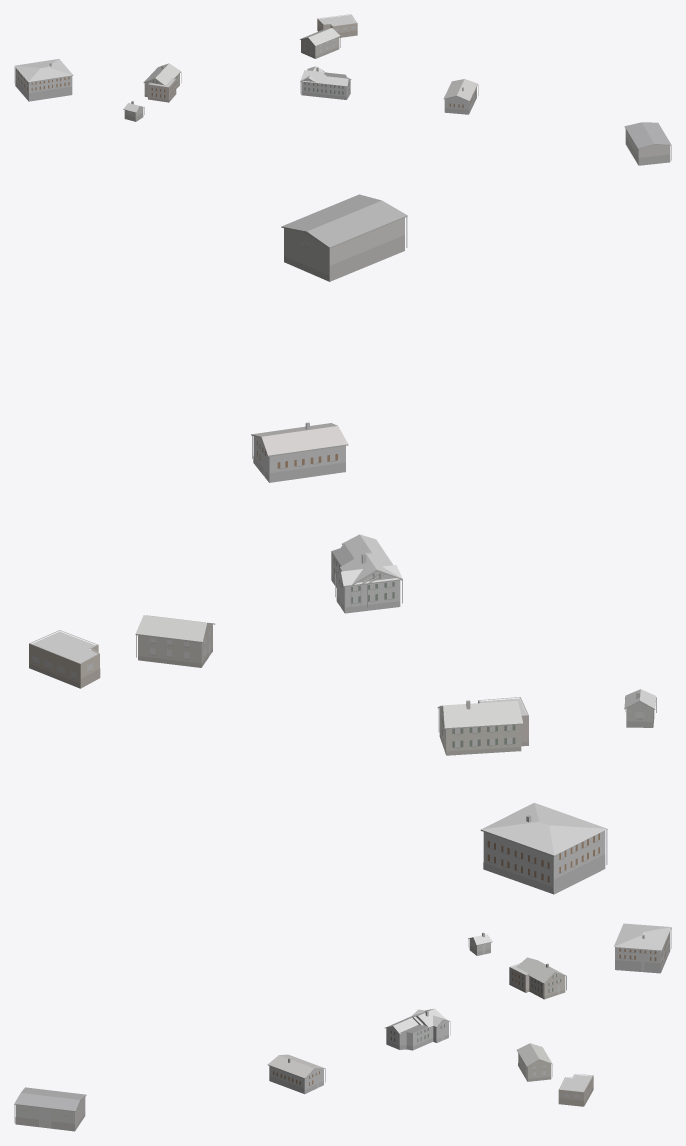
3 views of the same model, one above another, from view 1: azimuth 30°, elevation 25°; view 2: azimuth 150°, elevation 25°; view 3: azimuth 270°, elevation 25° (orthographic). The views are drawn at different scales.
Visible parts, largest first — view 1: bld; view 2: bld; view 3: bld.
Boxes of the visible parts, x1,y1,x2,y2 form: bld: (14,14,671,165); bld: (29,194,656,894); bld: (14,923,671,1131).
Bounding box in the file's own units: 167 × 22.58 × 205.
